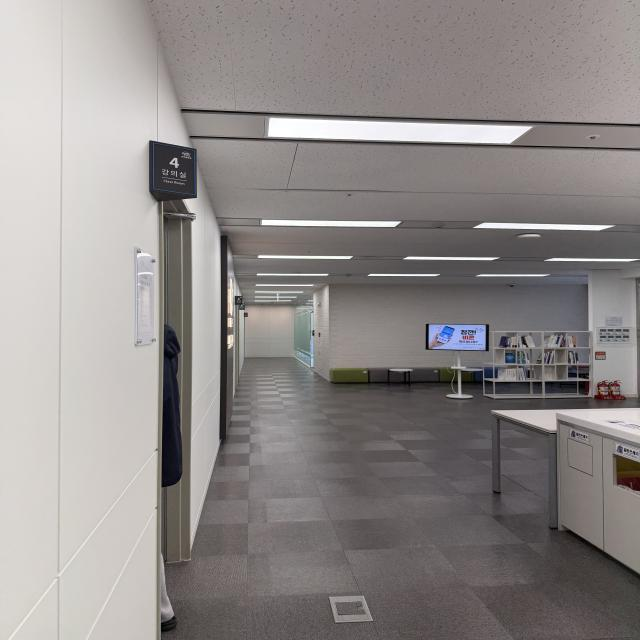room4: (150, 142, 197, 198)
